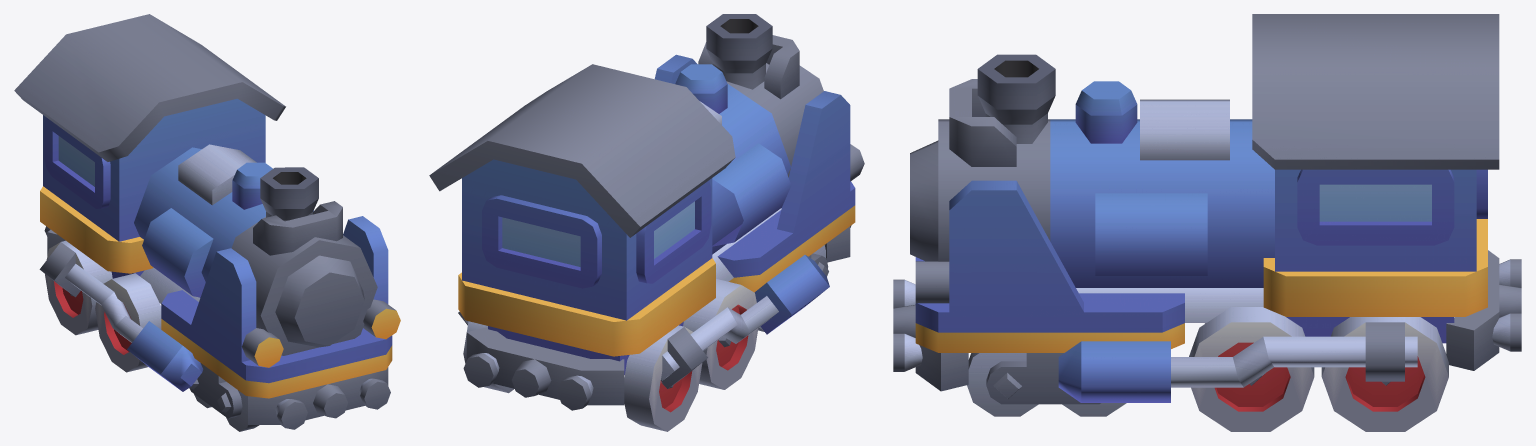
Rendered from train-locomotive-c.glb.
3 renders of one model, left to right at view 1: azimuth 30°, elevation 25°; view 2: azimuth 150°, elevation 25°; view 3: azimuth 270°, elevation 25°, orthographic. The views are drawn at different scales.
Visible parts, largest first — view 1: train-locomotive-c; view 2: train-locomotive-c; view 3: train-locomotive-c.
Boxes of the visible parts, x1,y1,x2,y2 form: train-locomotive-c: (14, 14, 400, 431); train-locomotive-c: (429, 14, 864, 431); train-locomotive-c: (893, 14, 1521, 431).
Size of the model in its own units: 1.43 by 1.66 by 2.8.
Materials: 1 (1 with a texture image).
